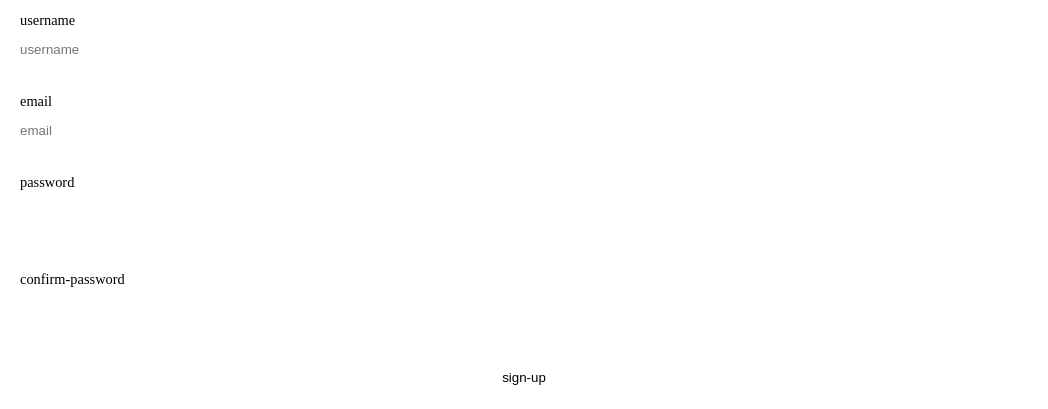
Test case: SignUpForm › shows validation errors on submit without input
What coordinates should you click on to do the following:
click the button
I would click on:
 (524, 377)
Its box is top-left (12, 362), bottom-right (1036, 392).
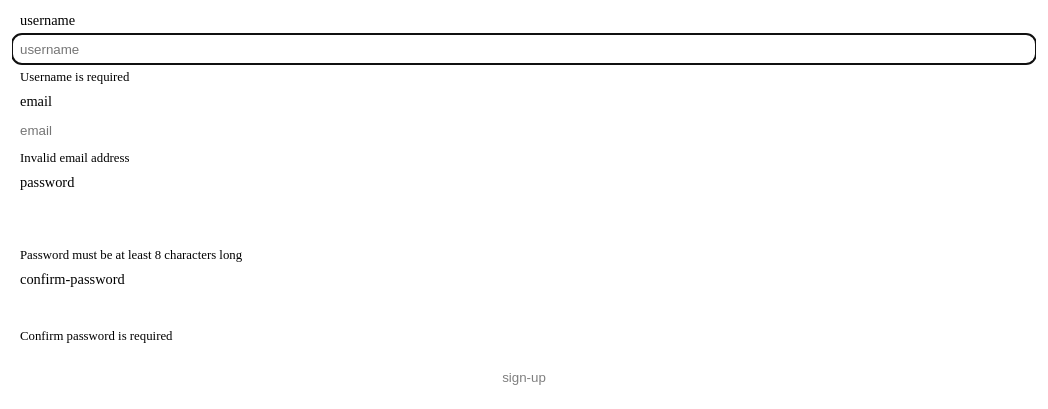
Now the text "Username is required" is shown, box top-left (20, 70), bottom-right (130, 84)
Now the text "Invalid email address" is shown, box top-left (20, 151), bottom-right (130, 165)
Now the text "Password must be at least 8 characters long" is shown, box top-left (20, 248), bottom-right (242, 262)
